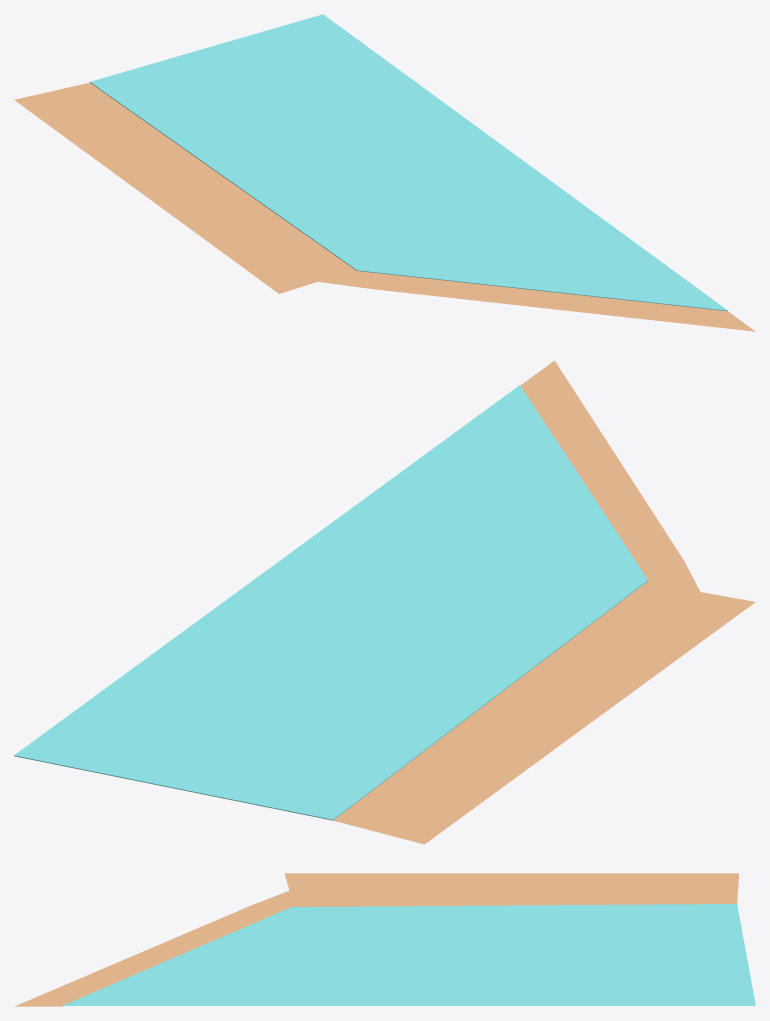
Rendered from sol3.FBX.
The picture shows the model from 3 angles, top to bottom: view 1: azimuth 30°, elevation 25°; view 2: azimuth 150°, elevation 25°; view 3: azimuth 270°, elevation 25°; orthographic projection. The views are drawn at different scales.
Parts seen in each view (by area): view 1: Object001; view 2: Object001; view 3: Object001.
Part boxes in pixels (x1,y1,x2,y2): Object001: (14, 14, 755, 331); Object001: (14, 360, 755, 844); Object001: (14, 873, 755, 1006).
Size of the model in its own units: 224 by 0.4686 by 526.
